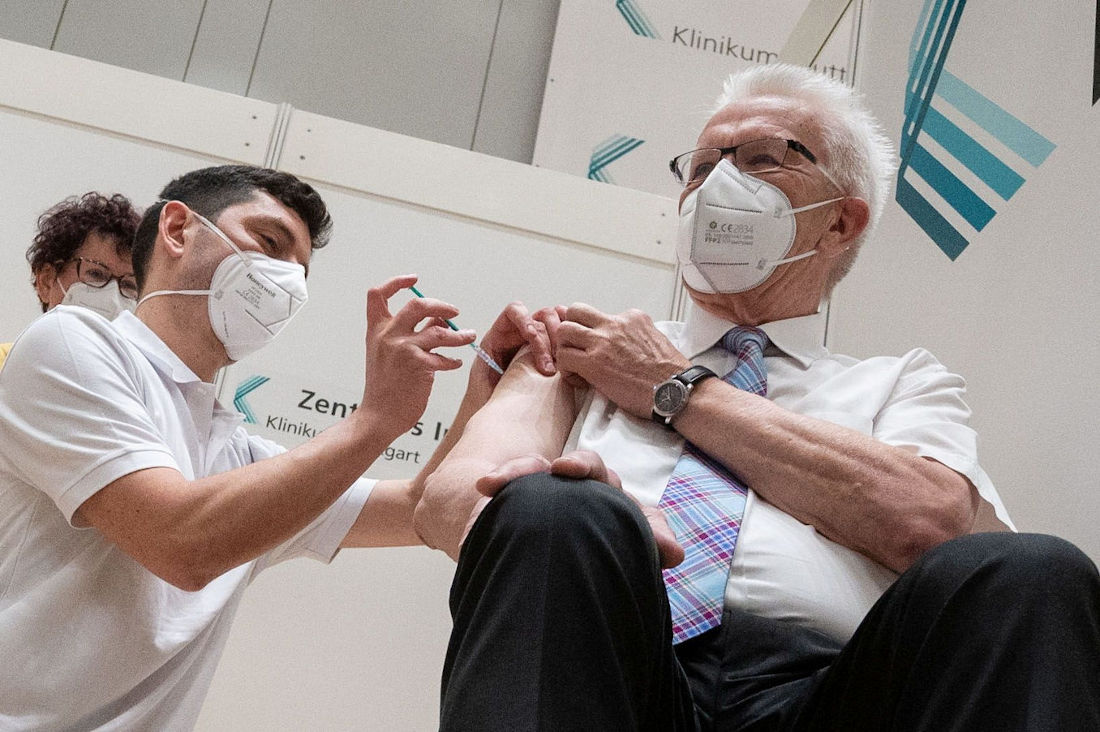with_mask: (665, 127, 805, 295), (192, 195, 331, 364), (44, 226, 143, 332)
